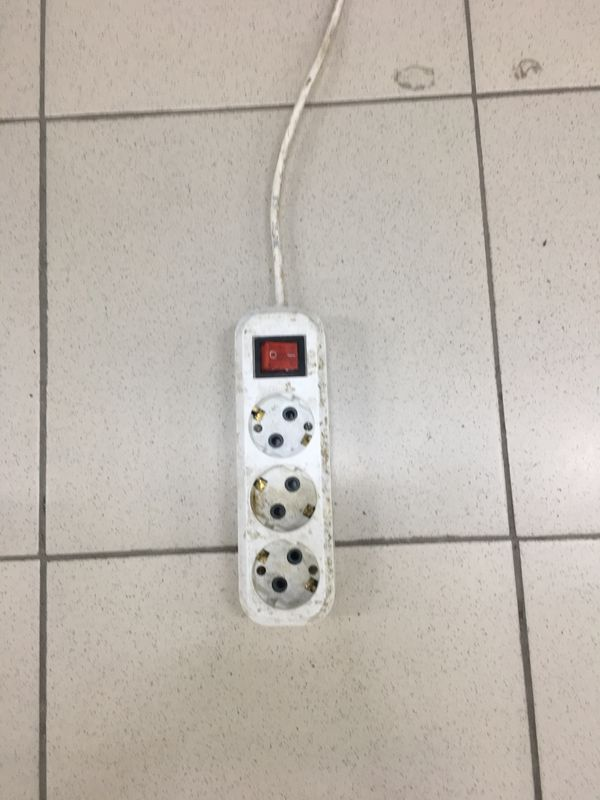socket: (223, 297, 346, 634)
